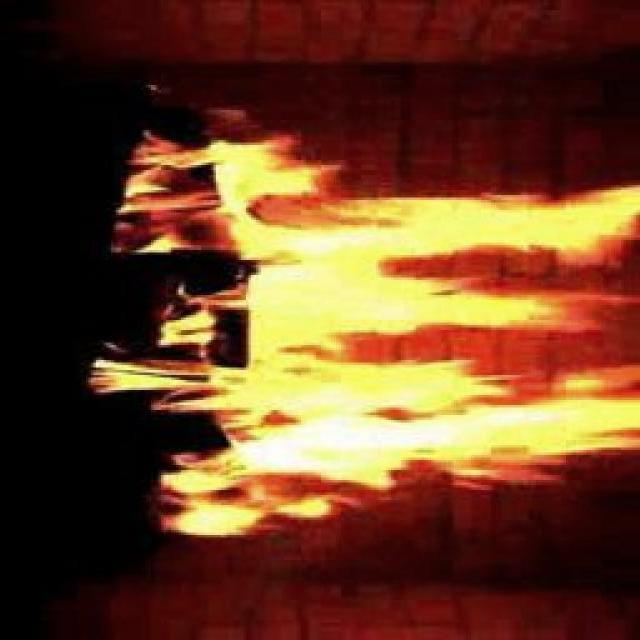Fire: (165, 188, 585, 525)
